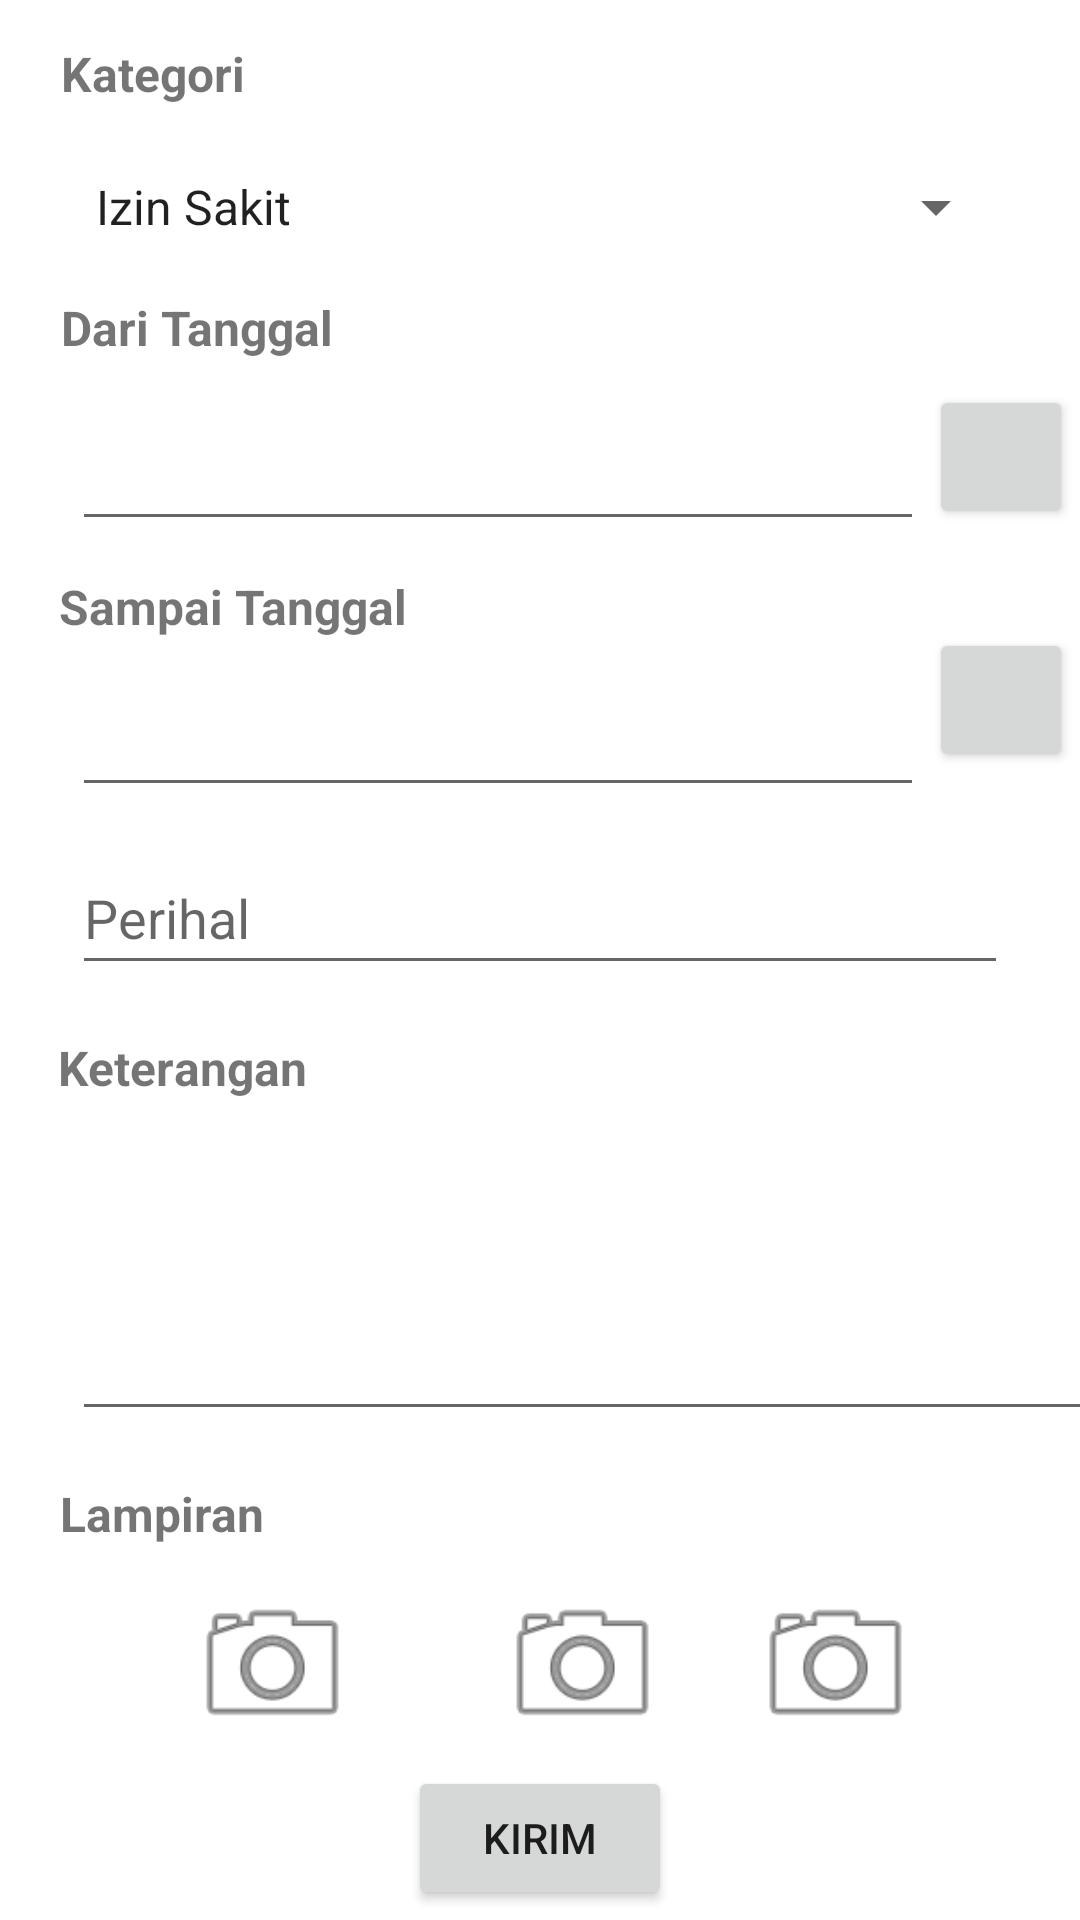

Icons on this 1080 x 1920 Android screen, each with the point to tap as [x,y]:
camera: [272,1662], [582,1662], [835,1662]
